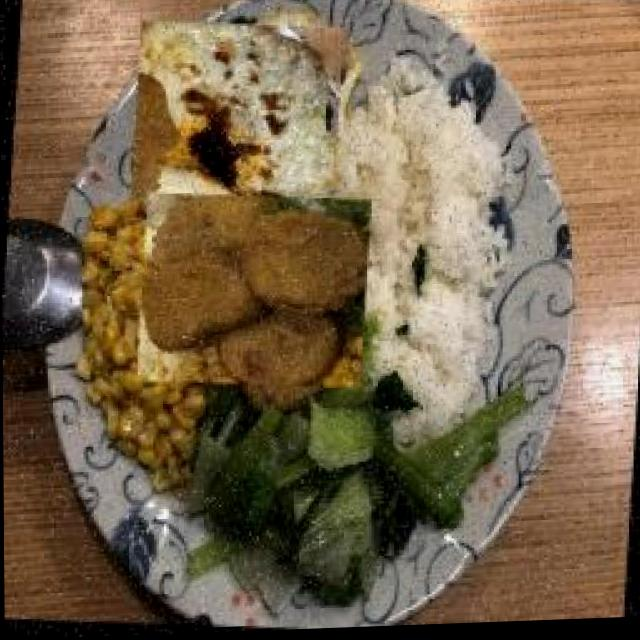chicken_nuggets: (144, 179, 365, 406)
fried_eggs: (135, 10, 339, 219)
rice: (348, 83, 507, 361)
